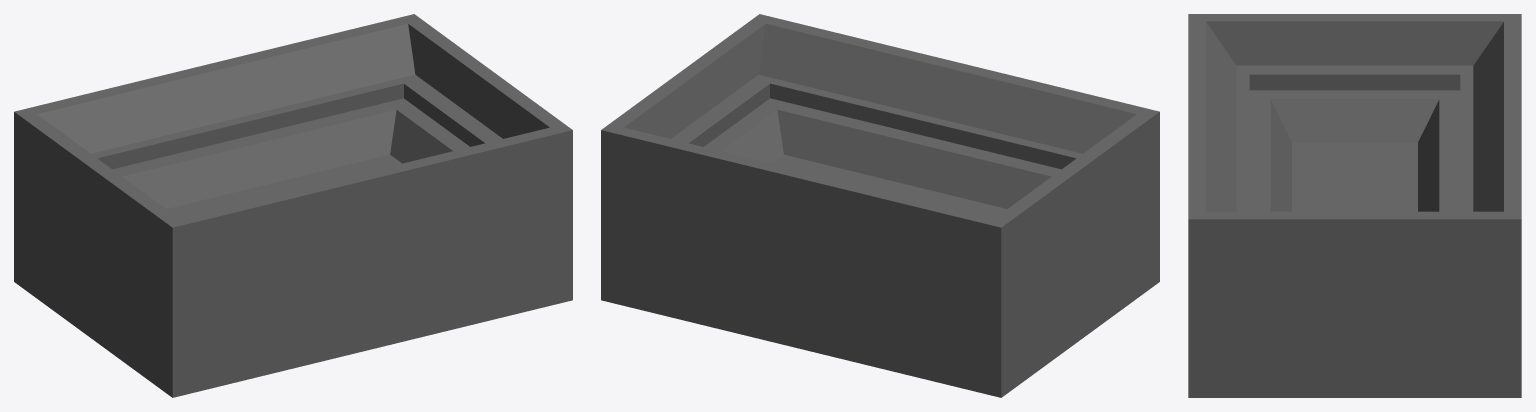
3 views of the same model, side by side, from view 1: azimuth 30°, elevation 25°; view 2: azimuth 150°, elevation 25°; view 3: azimuth 270°, elevation 25° (orthographic). The views are drawn at different scales.
Parts seen in each view (by area): view 1: pCube54; view 2: pCube54; view 3: pCube54.
Boxes of the visible parts, left/top/right/bottom form: pCube54: left=14, top=14, right=572, bottom=397; pCube54: left=601, top=14, right=1159, bottom=397; pCube54: left=1188, top=14, right=1521, bottom=397.
Size of the model in its own units: 367 by 149 by 252.
Materials: 1 (1 with a texture image).
